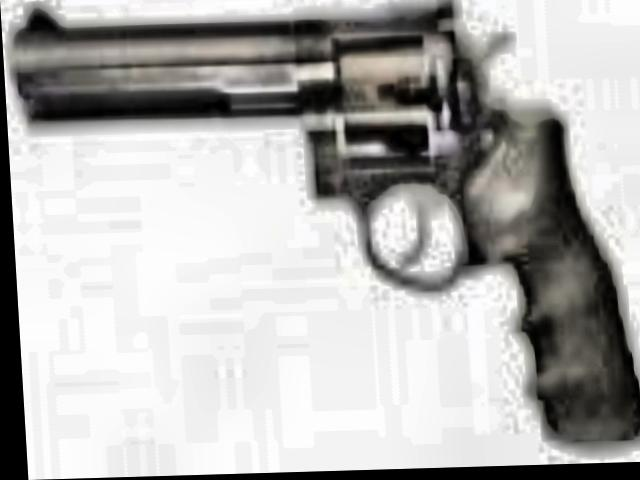pistol: (4, 0, 638, 464)
